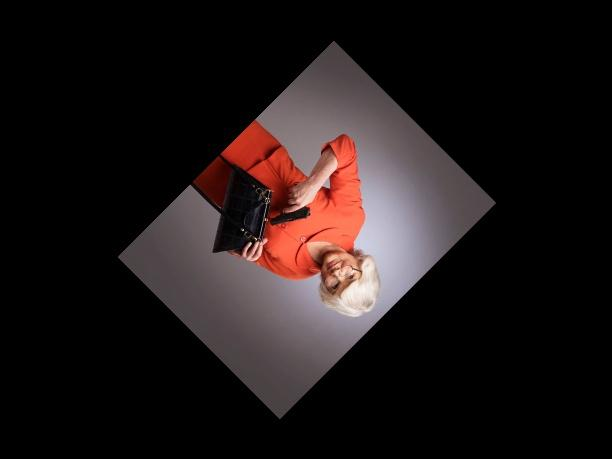weapon: (271, 190, 311, 226)
